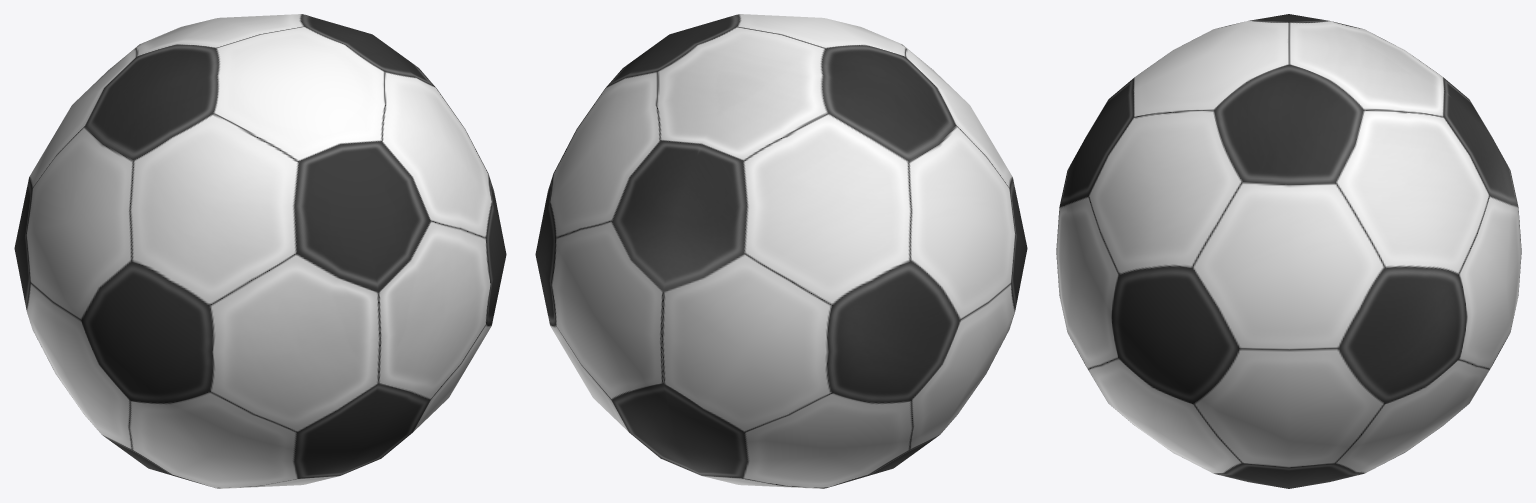
The model's file is ENV2010046.fbx.
3 renders of one model, left to right at view 1: azimuth 30°, elevation 25°; view 2: azimuth 150°, elevation 25°; view 3: azimuth 270°, elevation 25°, orthographic. The views are drawn at different scales.
Parts seen in each view (by area): view 1: smENV2010046; view 2: smENV2010046; view 3: smENV2010046.
Part boxes in pixels (x1=…): smENV2010046: x1=14, y1=14, x2=506, y2=488; smENV2010046: x1=535, y1=14, x2=1027, y2=488; smENV2010046: x1=1056, y1=14, x2=1521, y2=488.
Size of the model in its own units: 14.56 by 14.56 by 14.56.
Materials: 1 (1 with a texture image).
